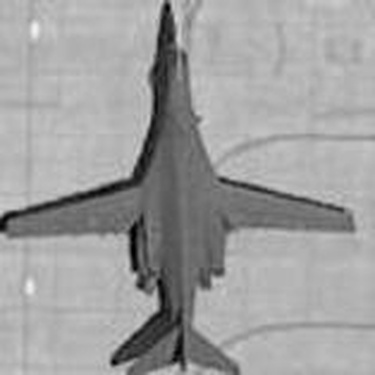airplane: (8, 2, 360, 369)
